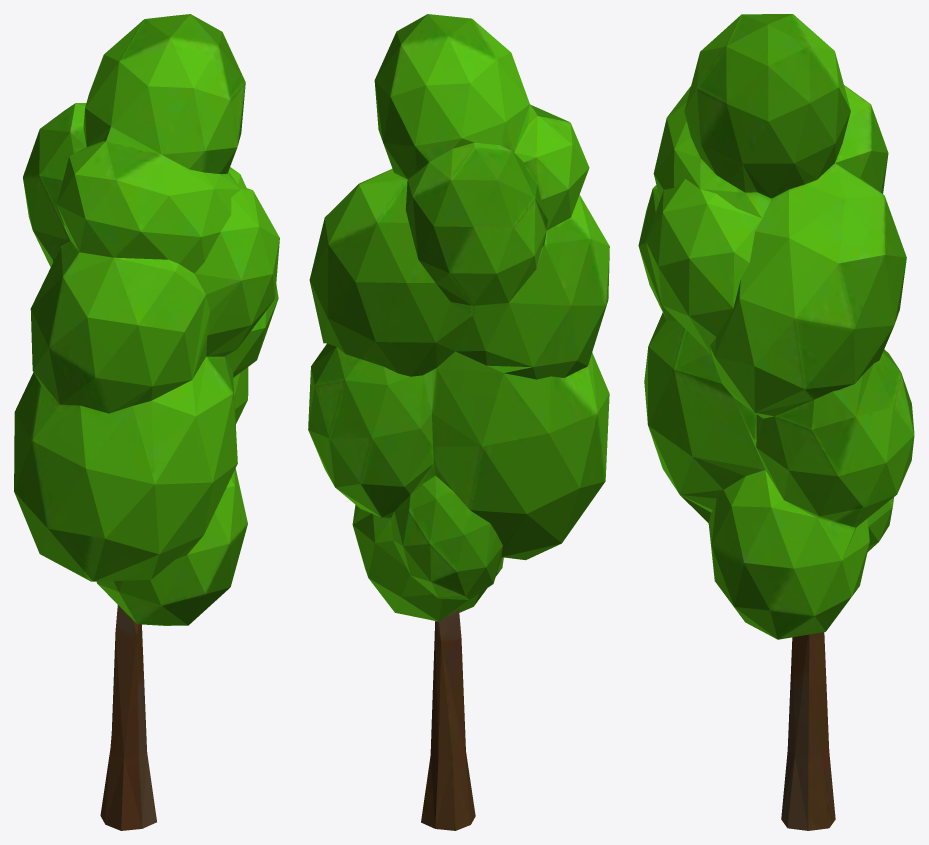
Rendered from tree_07.glb.
3 views of the same model, side by side, from view 1: azimuth 30°, elevation 25°; view 2: azimuth 150°, elevation 25°; view 3: azimuth 270°, elevation 25° (orthographic). The views are drawn at different scales.
Visible parts, largest first — view 1: _7_tree__7_tree_0; view 2: _7_tree__7_tree_0; view 3: _7_tree__7_tree_0.
Boxes of the visible parts, <box> form: _7_tree__7_tree_0: <box>14,14,279,830</box>; _7_tree__7_tree_0: <box>308,14,609,830</box>; _7_tree__7_tree_0: <box>638,14,914,830</box>.
Size of the model in its own units: 3.64 by 11 by 3.37.
1 material, 1 textured.
